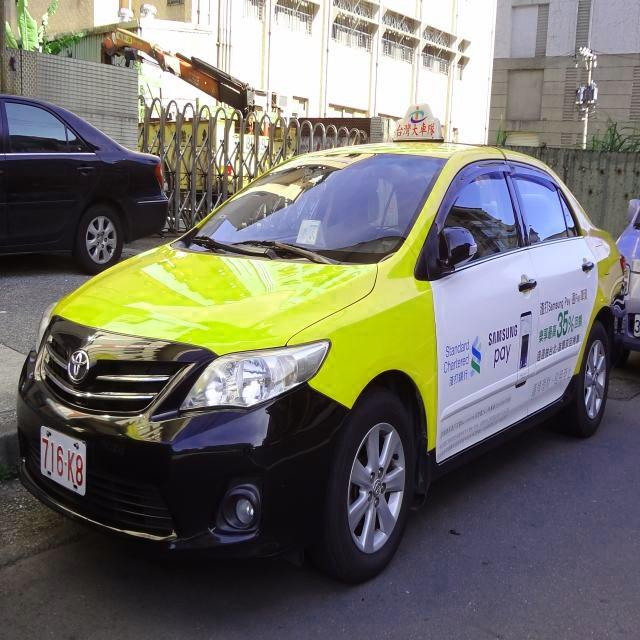taxi: (15, 95, 629, 597)
